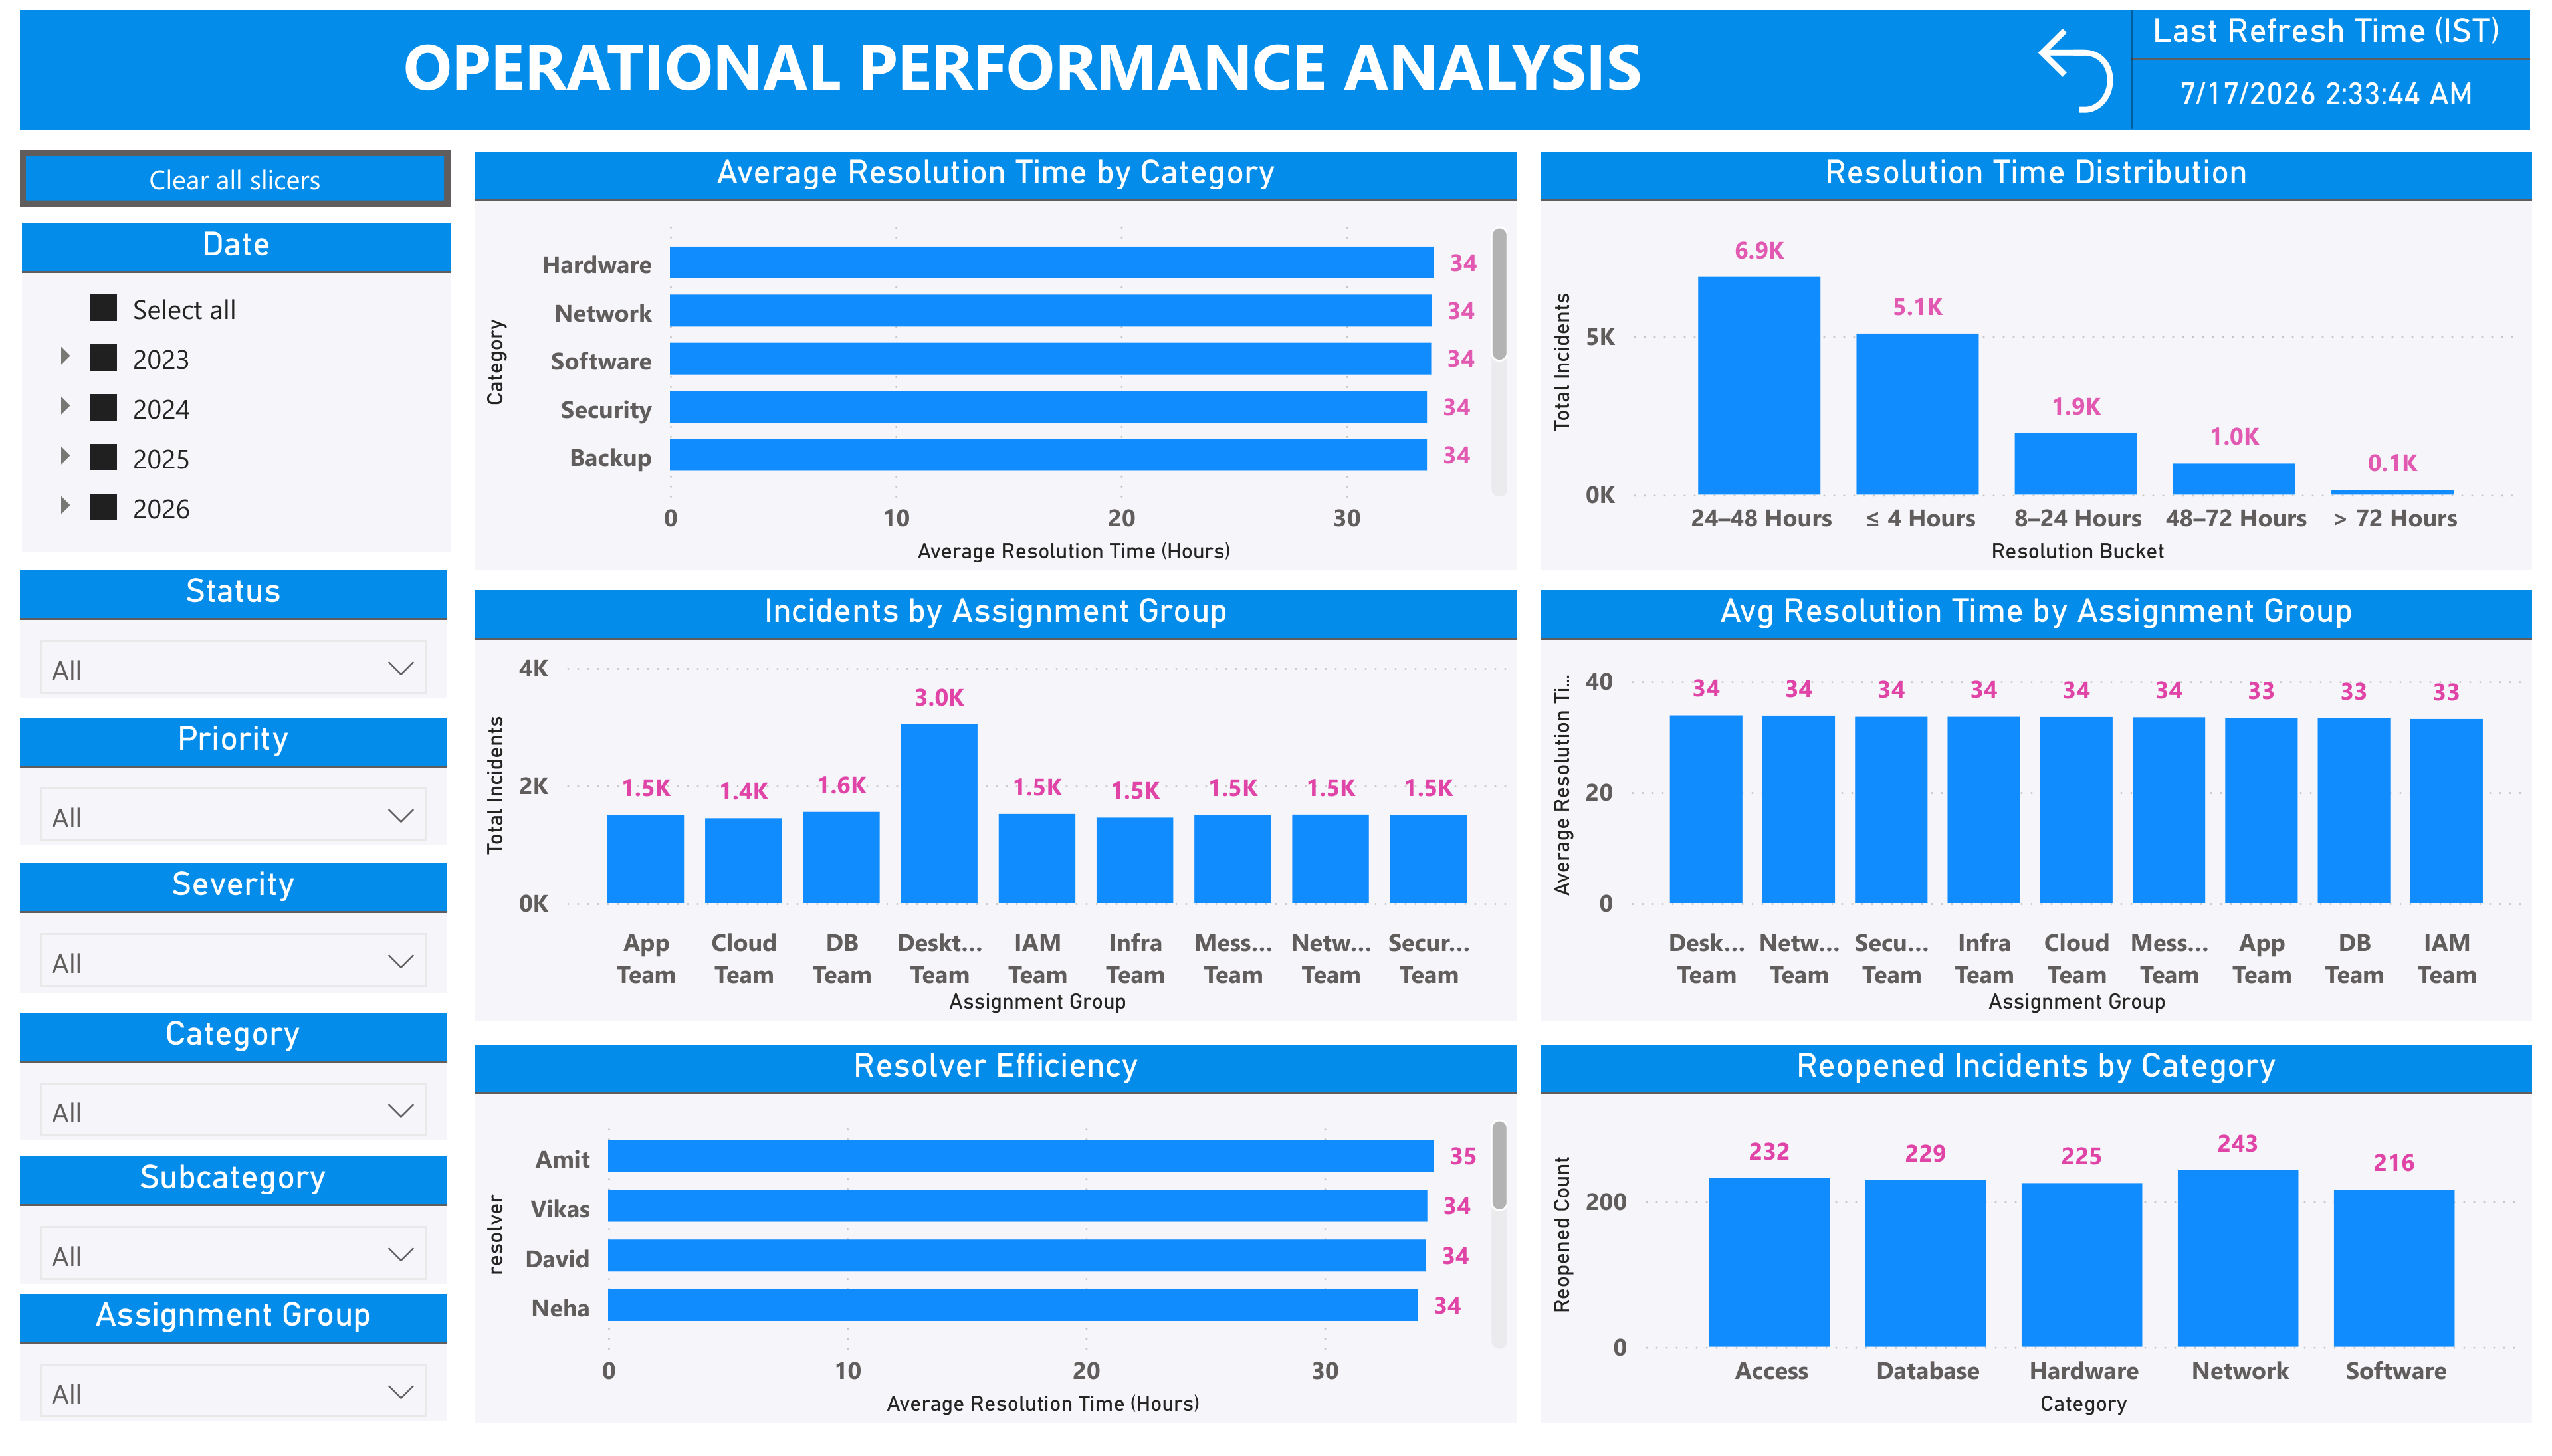

The dashboard page shown, as its layout file describes it:
{"tool":"powerbi","page":{"name":"OPERATIONAL PERFORMANCE ANALYSIS","canvas":[1280,720],"ordinal":1},"visuals":[{"type":"textbox","box":[10.2,0,1005.7,60],"z":0,"group":"g1"},{"type":"clusteredColumnChart","title":"Resolution Time Distribution","fields":{"Category":["Fact_Incident.Resolution Bucket"],"Y":["Measure.Total Incidents"]},"box":[238.5,69.8,522.2,210.9],"z":0},{"type":"slicer","title":"Status","fields":{"Values":["Dim_Status.Status"]},"box":[10.2,280.7,213.8,64],"z":0,"group":"g2"},{"type":"card","title":"Last Refresh Time (IST)","fields":{"Values":["Min(Last Refresh Time (IST).Last Refresh Time (IST))"]},"box":[1064.5,0,205.1,59.6],"z":1000,"group":"g1"},{"type":"clusteredColumnChart","title":"Avg Resolution Time by Category","fields":{"Y":["Measure.Average Resolution Time (Hours)"],"Category":["Dim_Category.Category"]},"box":[772.4,69.8,497.5,210.9],"z":1000},{"type":"slicer","title":"Priority","fields":{"Values":["Dim_Priority.Priority"]},"box":[10.2,354.9,213.8,64],"z":1000,"group":"g2"},{"type":"shape","box":[1058.9,0,20.4,59.6],"z":2000,"group":"g1"},{"type":"clusteredColumnChart","title":"Incidents by Assignment Group","fields":{"Y":["Measure.Total Incidents"],"Category":["Dim_Assigned_Group.Assigned_Group"]},"box":[238.5,288,522.2,224],"z":2000},{"type":"slicer","title":"Severity","fields":{"Values":["Dim_Severity.Severity"]},"box":[10.2,427.6,213.8,65.5],"z":2000,"group":"g2"},{"type":"clusteredColumnChart","title":"SLA Compliance by Assignment Group","fields":{"Y":["Measure.SLA Compliance %"],"Category":["Dim_Assigned_Group.Assigned_Group"]},"box":[772.4,288,497.5,224],"z":3000},{"type":"slicer","title":"Category","fields":{"Values":["Dim_Category.Category"]},"box":[10.2,503.3,213.8,64],"z":3000,"group":"g2"},{"type":"group","id":"g1","title":"ES Top Bar","box":[10.2,0,1259.4,60],"z":4000},{"type":"slicer","title":"Subcategory","fields":{"Values":["Dim_Subcategory.Subcategory"]},"box":[10.2,574.5,213.8,64],"z":4000,"group":"g2"},{"type":"group","id":"g2","title":"Slicer Group","box":[10,70,215.8,638.4],"z":5000},{"type":"slicer","title":"Assignment Group","fields":{"Values":["Dim_Assigned_Group.Assigned_Group"]},"box":[10.2,644.4,213.8,64],"z":5000,"group":"g2"},{"type":"slicer","title":"Date","fields":{"Values":["Dim_Date.Date Hierarchy.Year","Dim_Date.Date Hierarchy.Quater","Dim_Date.Date Hierarchy.Month","Dim_Date.Date Hierarchy.Day"]},"box":[10.7,106.7,215.1,164.5],"z":6000,"group":"g2"},{"type":"clusteredColumnChart","title":"Top 5 Incident Drivers","fields":{"Category":["Dim_Category.Category"],"Y":["Measure.Total Incidents"]},"box":[238.5,519.3,522.2,189.1],"z":6000},{"type":"actionButton","box":[10,70,215.7,28.6],"z":7000,"group":"g2"},{"type":"clusteredColumnChart","title":"Reopened Incidents by Category","fields":{"Category":["Dim_Category.Category"],"Y":["Sum(Fact_Incident.Reopened_Flag)"]},"box":[772.4,519.3,507.6,189.1],"z":7000},{"type":"actionButton","box":[1013.8,0,54.7,60.5],"z":8000}]}

Visuals, with their boxes in screenshot pixels (x1, y1, x2, y2), scaled from the page's 1280x720 canvas onto the 2552x1456 screenshot:
textbox: crop(21, 0, 2026, 122)
"Resolution Time Distribution" clusteredColumnChart: crop(476, 141, 1517, 568)
"Status" slicer: crop(21, 568, 447, 697)
"Last Refresh Time (IST)" card: crop(2123, 0, 2531, 120)
"Avg Resolution Time by Category" clusteredColumnChart: crop(1540, 141, 2532, 568)
"Priority" slicer: crop(21, 718, 447, 847)
shape: crop(2111, 0, 2152, 120)
"Incidents by Assignment Group" clusteredColumnChart: crop(476, 582, 1517, 1035)
"Severity" slicer: crop(21, 865, 447, 997)
"SLA Compliance by Assignment Group" clusteredColumnChart: crop(1540, 582, 2532, 1035)
"Category" slicer: crop(21, 1018, 447, 1147)
"ES Top Bar" group: crop(21, 0, 2531, 122)
"Subcategory" slicer: crop(21, 1162, 447, 1291)
"Slicer Group" group: crop(20, 142, 450, 1433)
"Assignment Group" slicer: crop(21, 1303, 447, 1433)
"Date" slicer: crop(21, 216, 450, 548)
"Top 5 Incident Drivers" clusteredColumnChart: crop(476, 1050, 1517, 1433)
actionButton: crop(20, 142, 450, 199)
"Reopened Incidents by Category" clusteredColumnChart: crop(1540, 1050, 2551, 1433)
actionButton: crop(2021, 0, 2131, 122)
